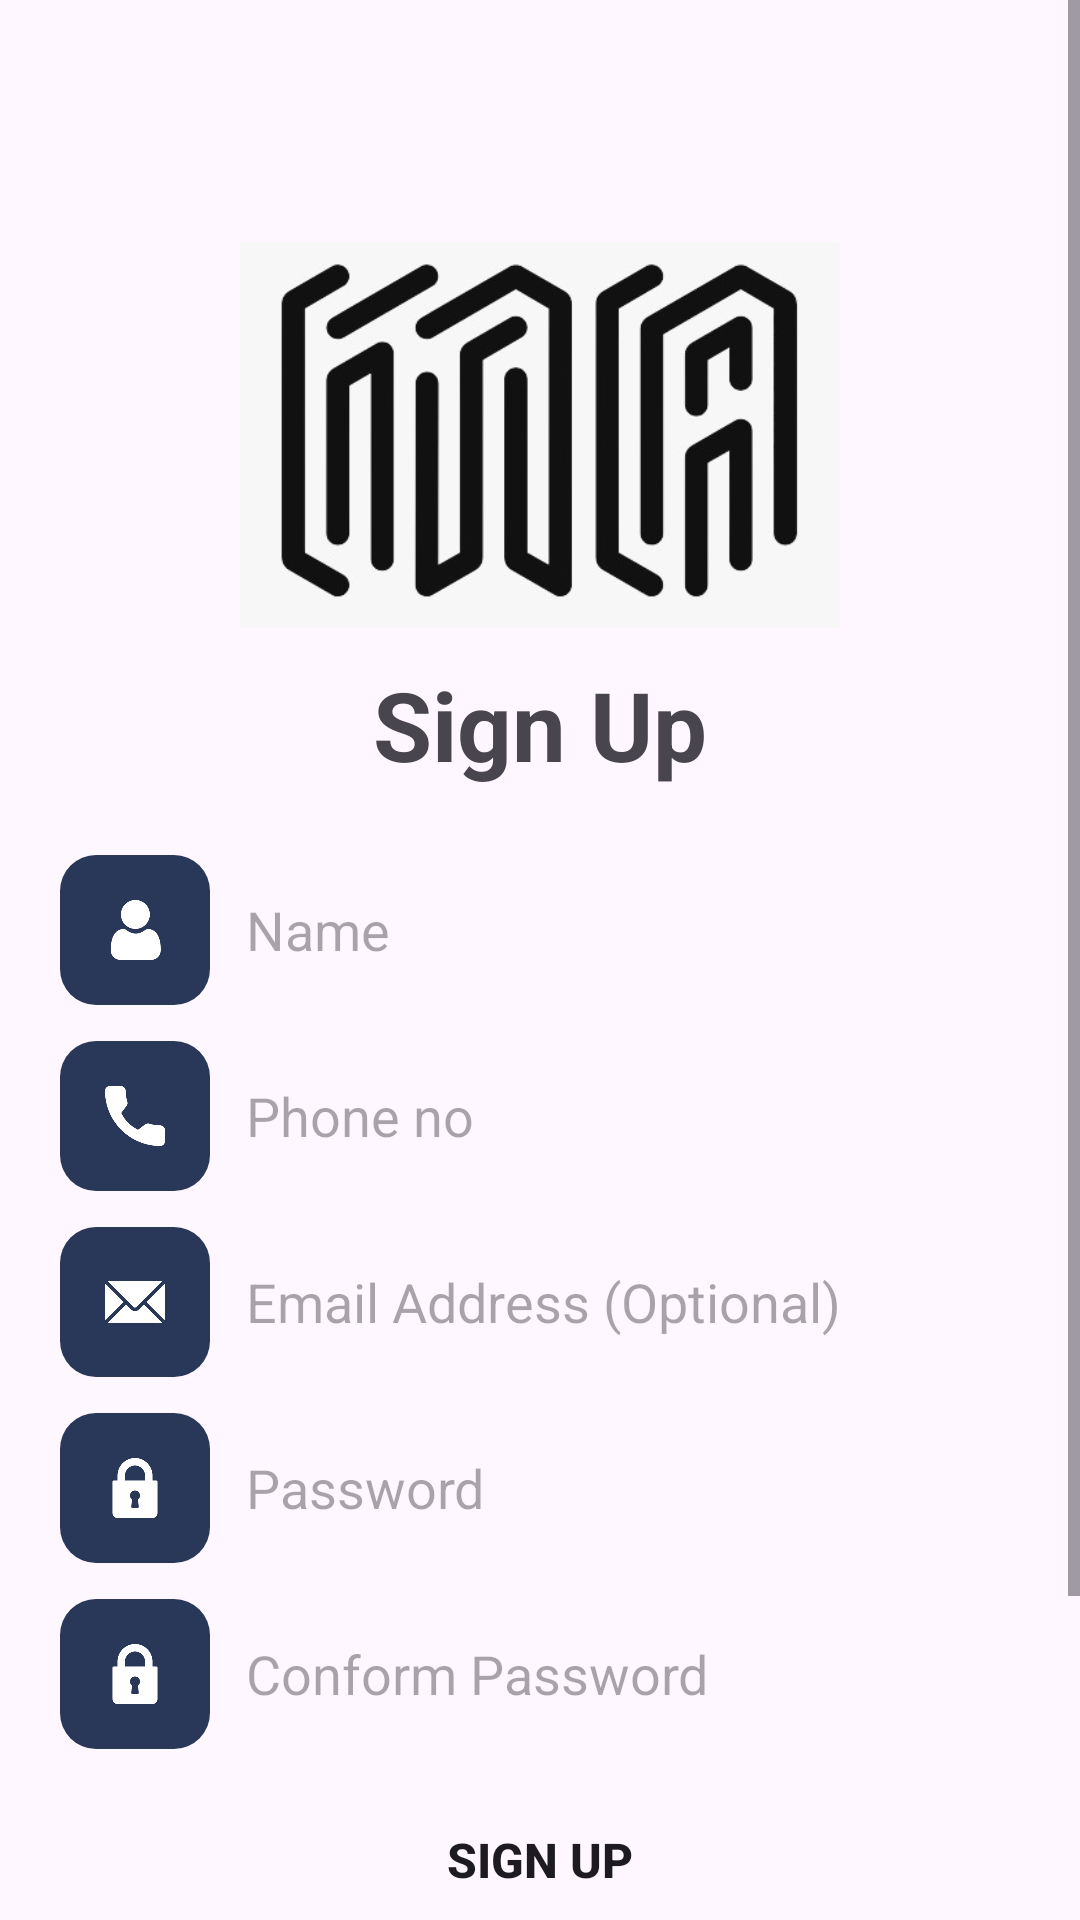

Where icons sit on this 1080 × 1920 app screen, as region(x1, y1, x2, y2):
call: region(60, 1041, 210, 1191)
lock: region(60, 1413, 210, 1563), region(60, 1599, 210, 1749)
user: region(60, 855, 210, 1005)
